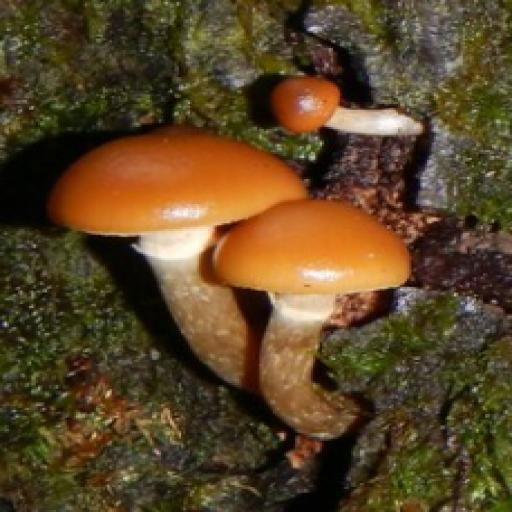mushroom: (56, 68, 428, 390)
